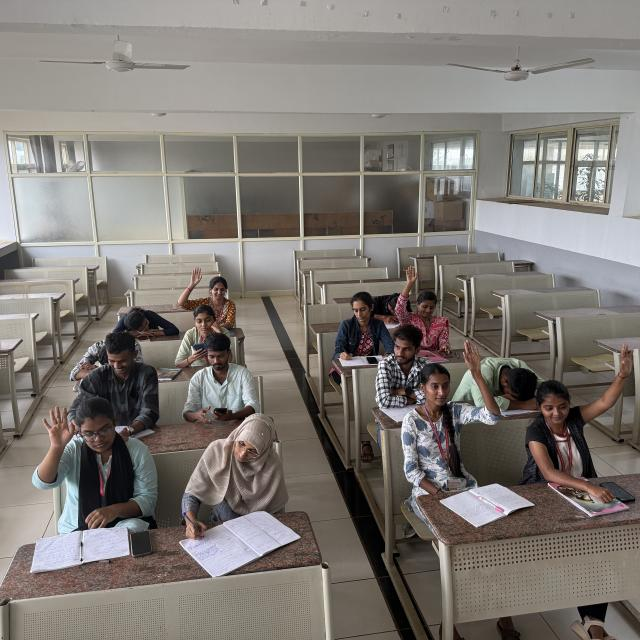Hand Rising: (35, 399, 158, 513), (532, 342, 634, 463), (410, 338, 496, 458), (397, 264, 446, 332), (183, 269, 239, 322)
Sleeping: (478, 350, 546, 413), (68, 331, 148, 380), (108, 304, 178, 343), (368, 292, 410, 324)
Using Phone: (187, 336, 257, 426), (172, 300, 235, 366)
Writing: (180, 417, 289, 547), (334, 293, 392, 360)
